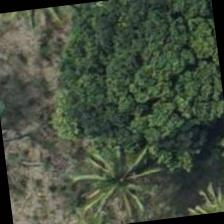Kelapa_Sawit: (70, 125, 171, 223)
